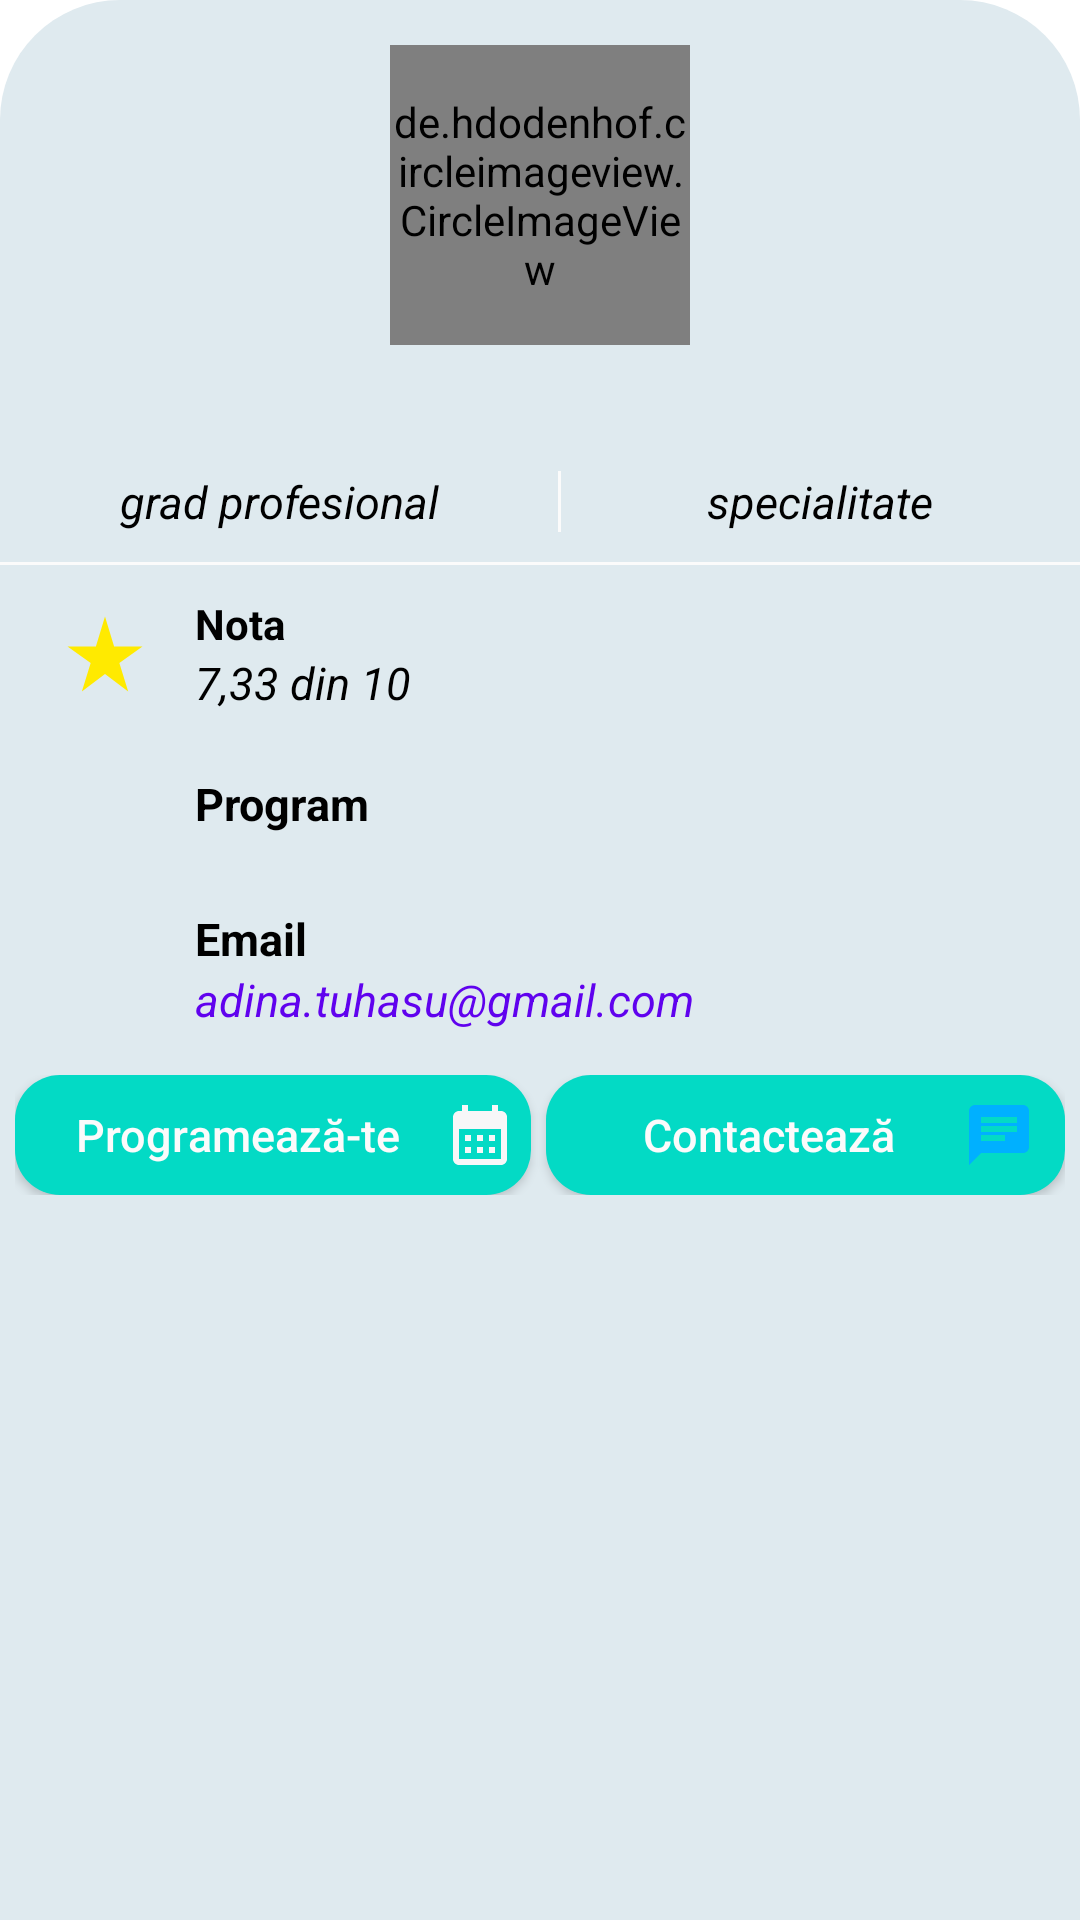

Icons on this 1080×1920 Android screen, each with its box as (x1,y1,x2,y2):
star rate on: (68,617,142,692)
